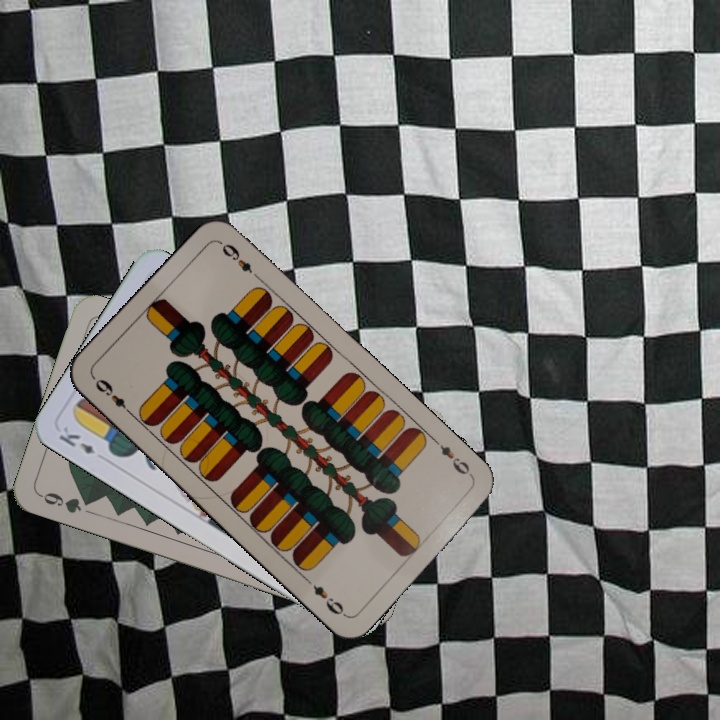E9: (430, 435, 476, 481), (91, 374, 136, 419)
EK: (55, 422, 98, 457)
G9: (36, 488, 96, 516)
